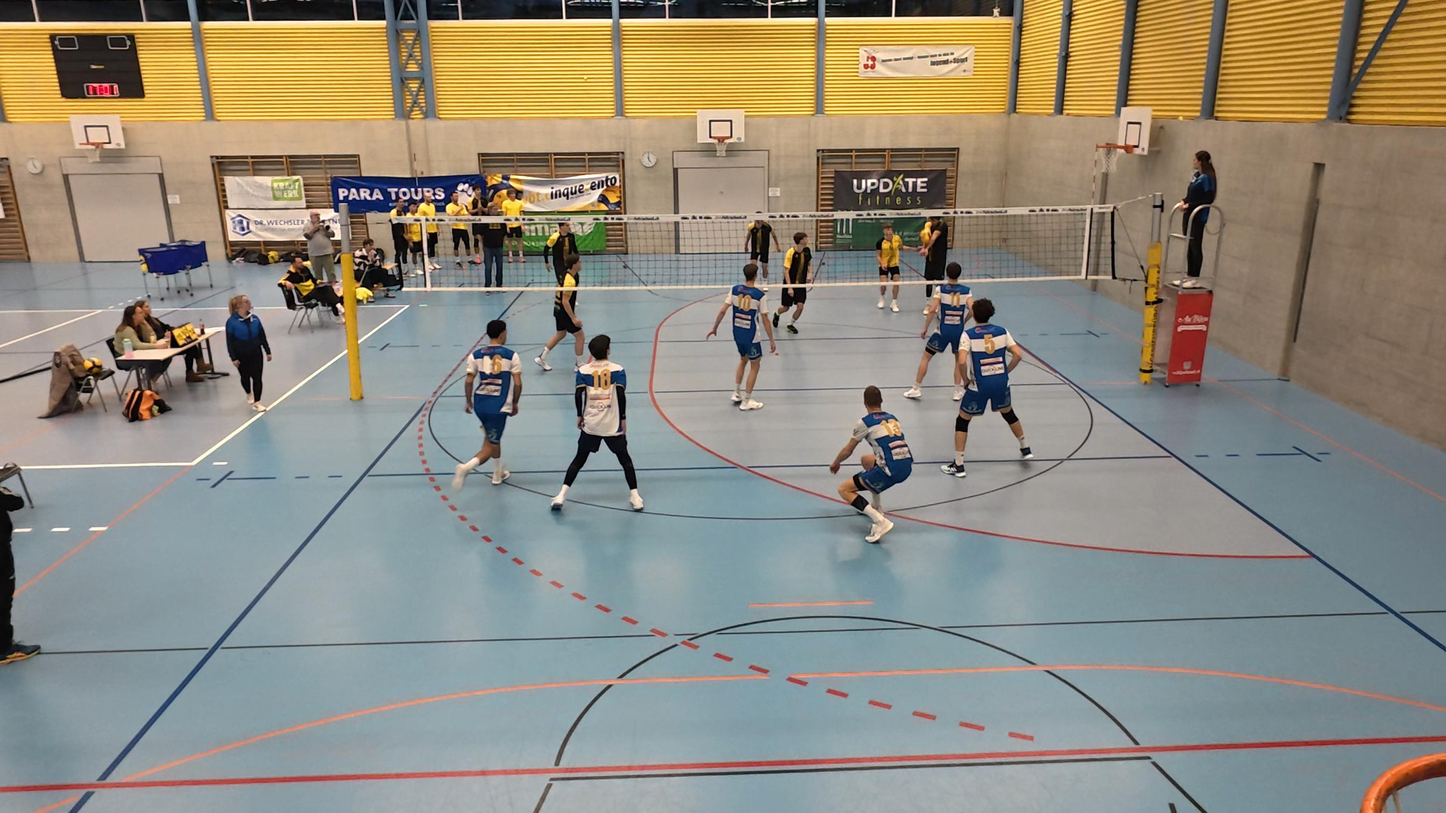Player: (548, 333, 646, 512), (948, 301, 1033, 466), (830, 386, 911, 545), (456, 319, 523, 486), (905, 262, 972, 402), (709, 265, 769, 409), (772, 229, 812, 339), (543, 262, 586, 363), (538, 217, 582, 307), (874, 222, 908, 313), (744, 210, 777, 280)
Receive: (915, 208, 952, 309)
ball: (918, 226, 933, 244)
